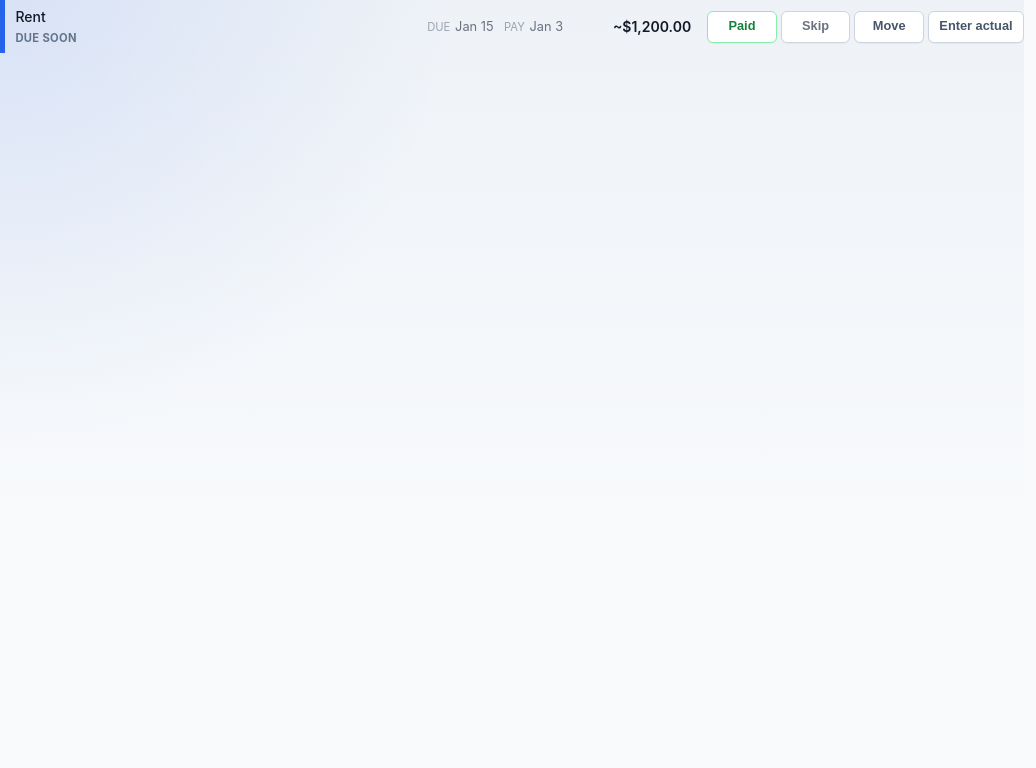
Test case: BillRow — variable bill › shows an error toast and does not submit a negative actual amount (BI-23)
Click the button "Enter actual" at (976, 27), box [928,11,1024,43]
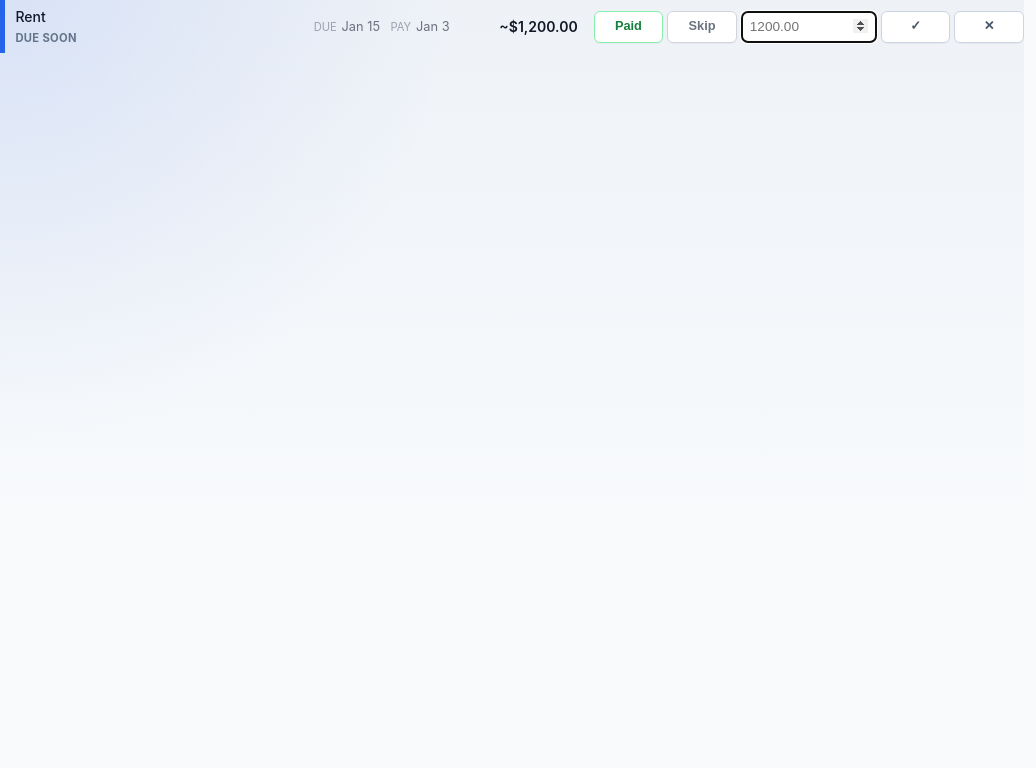
Type "-25" into the number field named "actual amount" at (809, 27), box [741,11,877,43]
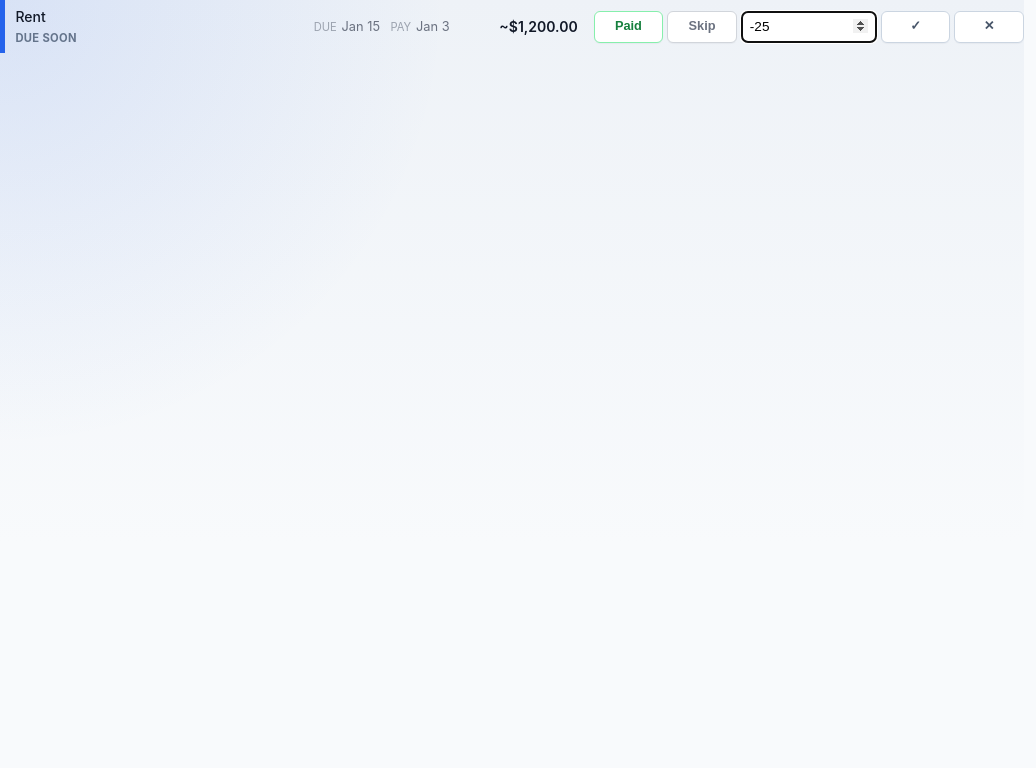
Click the button named "confirm actual" at (916, 27), box [881,11,950,43]
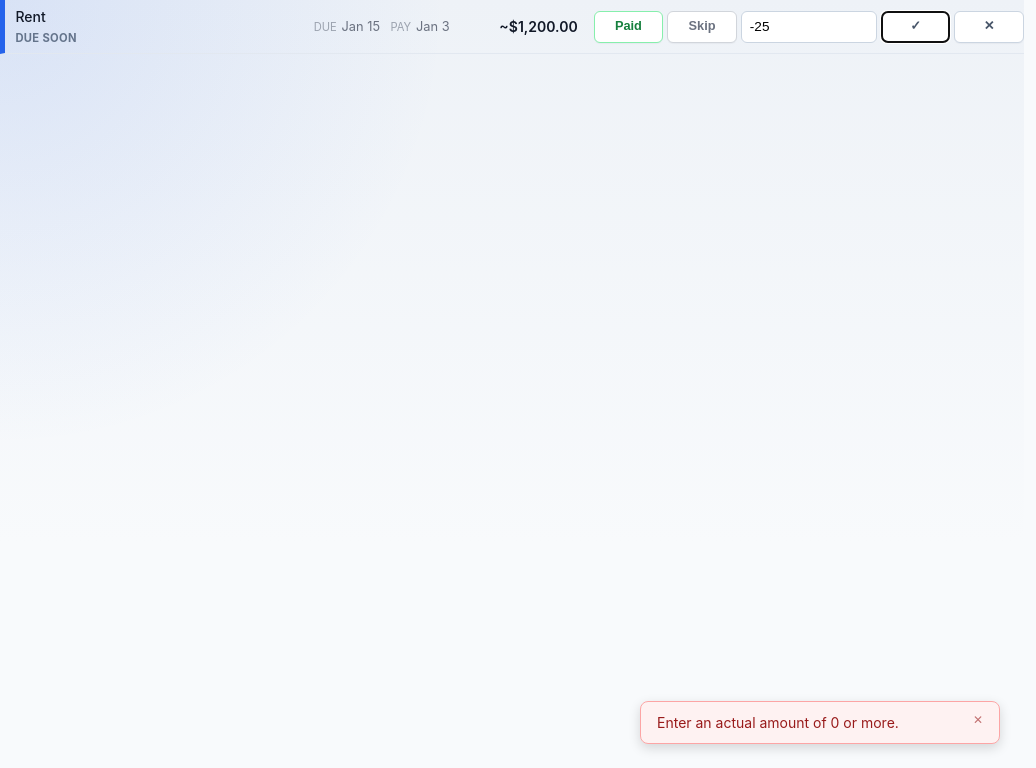
Result: the text "Enter an actual amount of 0 or more." is shown at [657,714,899,731]
